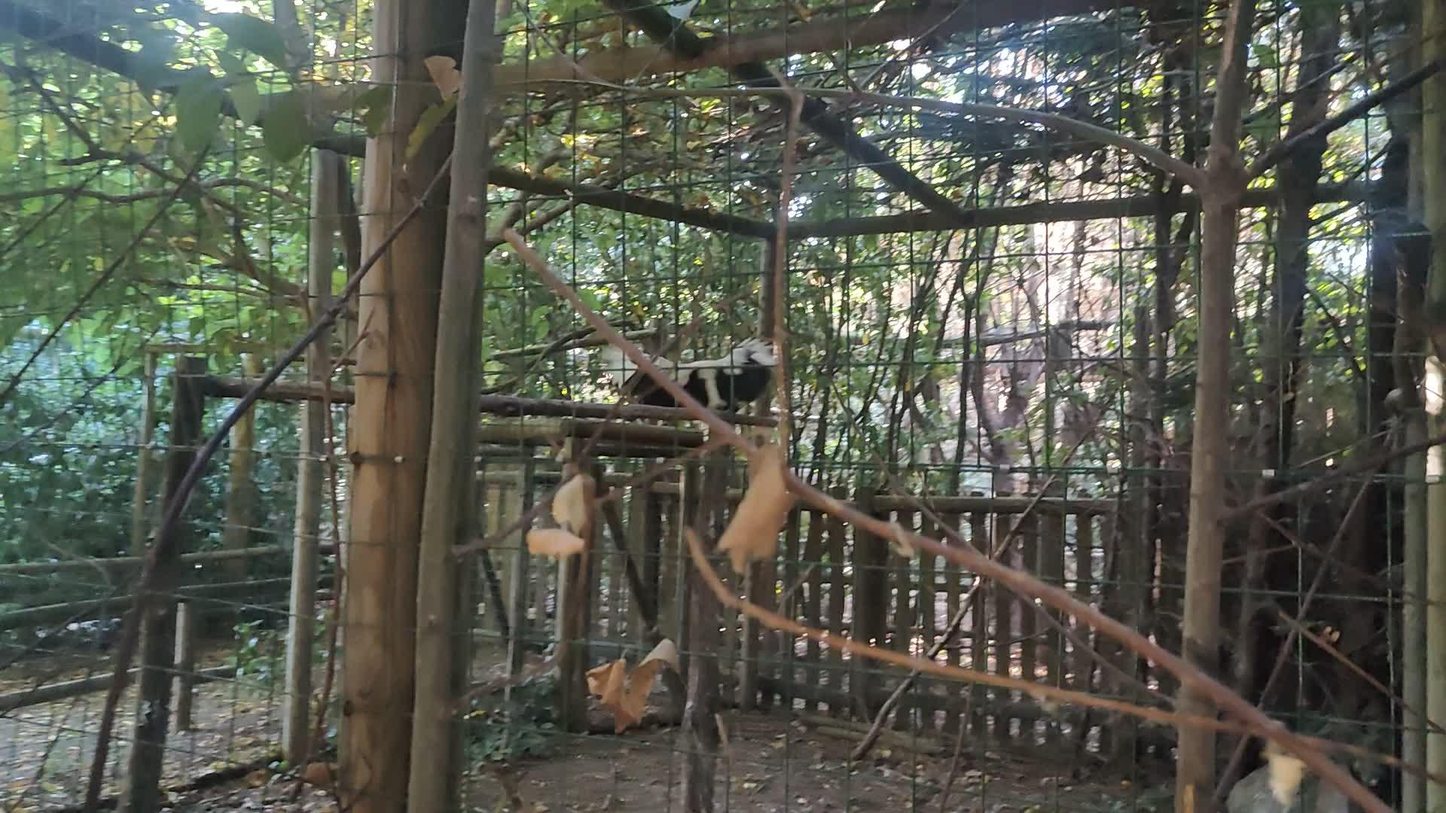apple: (601, 336, 779, 414)
